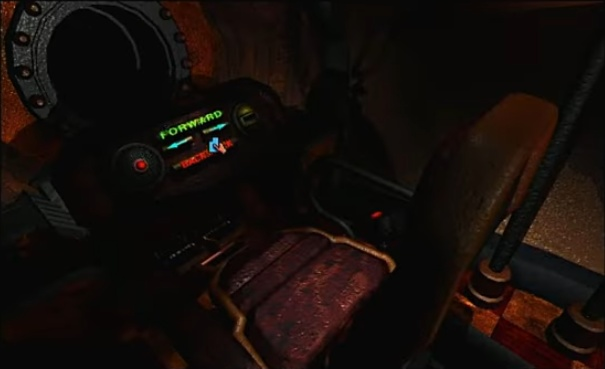Keep: (203, 135, 234, 158)
